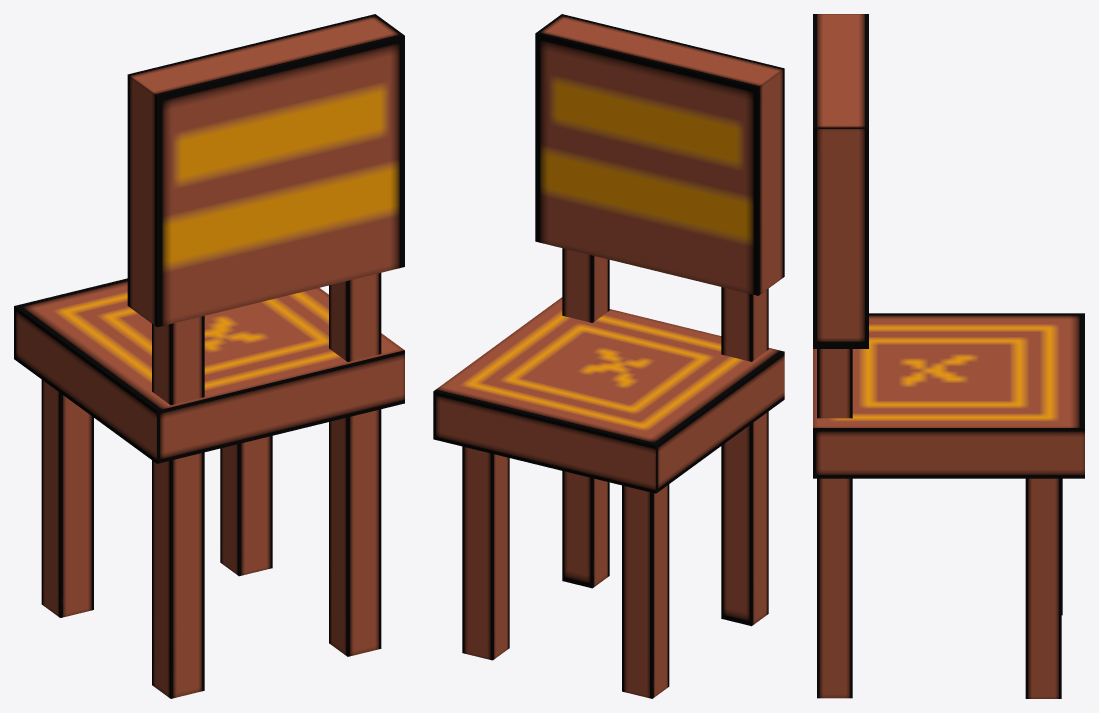
Rendered from rpgchair2.obj.
3 views of the same model, side by side, from view 1: azimuth 30°, elevation 25°; view 2: azimuth 150°, elevation 25°; view 3: azimuth 270°, elevation 25° (orthographic). The views are drawn at different scales.
Parts seen in each view (by area): view 1: rpgchair2; view 2: rpgchair2; view 3: rpgchair2.
Part boxes in pixels (x1,y1,x2,y2): rpgchair2: (14,14,404,698); rpgchair2: (433,14,784,698); rpgchair2: (813,14,1084,698).
Bounding box in the file's own units: 1.12 × 2.63 × 1.12.
1 material, 1 textured.
